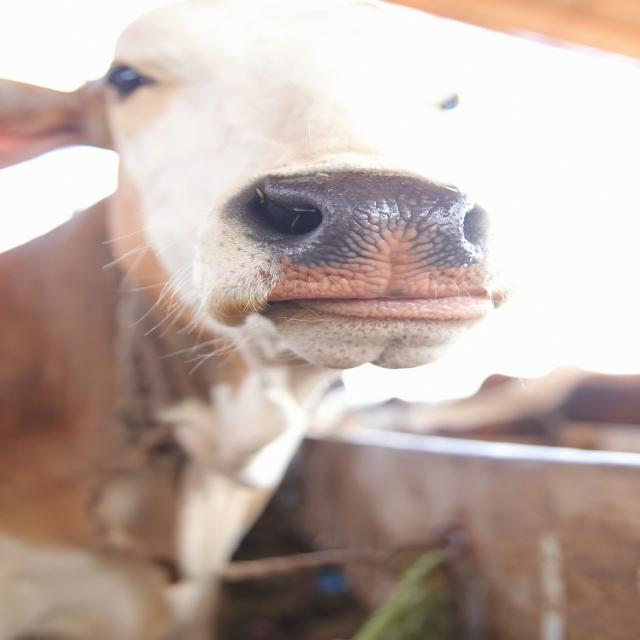muzzles: (220, 166, 506, 310)
